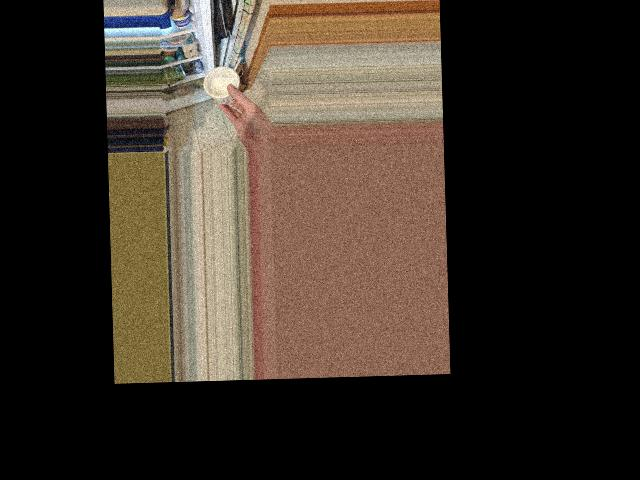cotage: (209, 64, 242, 105)
